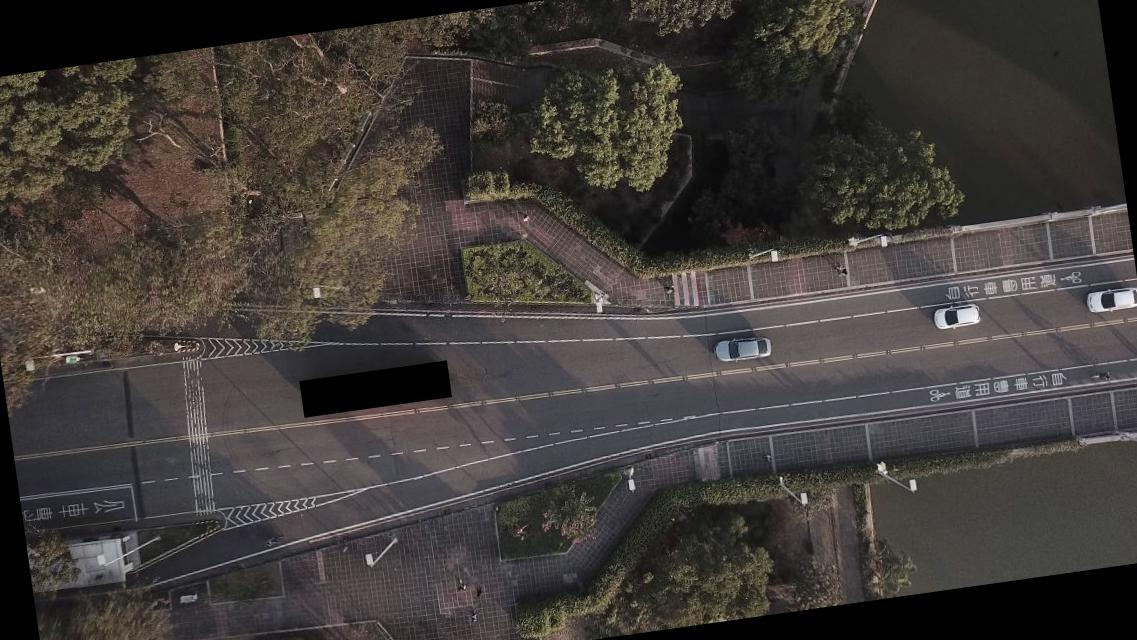vehicle: (711, 332, 772, 364), (1084, 283, 1136, 318), (932, 301, 981, 332)
